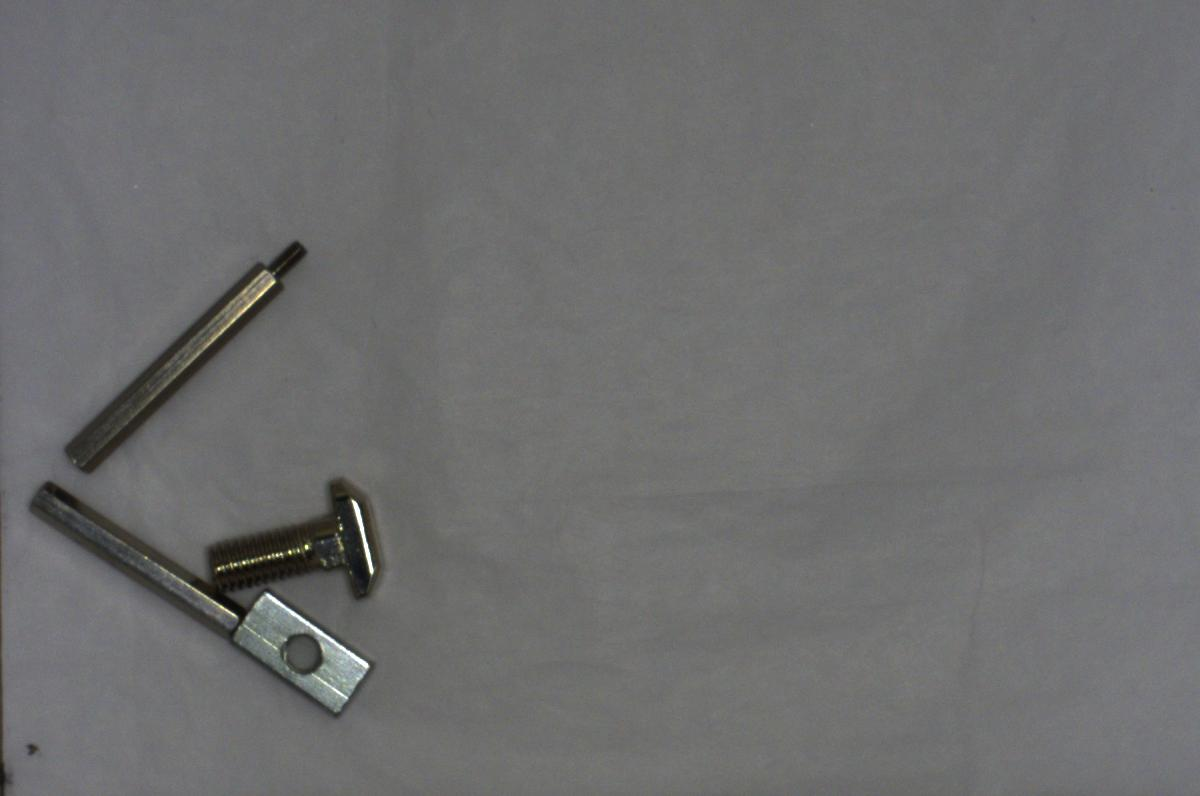Double hexagonal column: (25, 476, 237, 633)
Hexagonal steel column: (62, 235, 310, 473)
Rectangular nut: (226, 587, 378, 718)
T-shaped screw: (206, 469, 387, 600)
